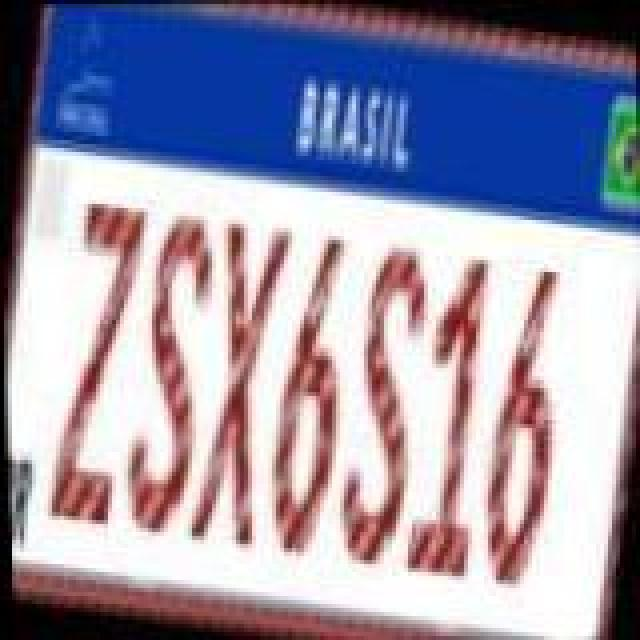1: (392, 246, 516, 586)
6: (248, 226, 372, 562), (462, 260, 582, 596)
S: (106, 202, 230, 538), (320, 234, 444, 570)
X: (174, 214, 302, 554)
Z: (32, 196, 152, 532)
